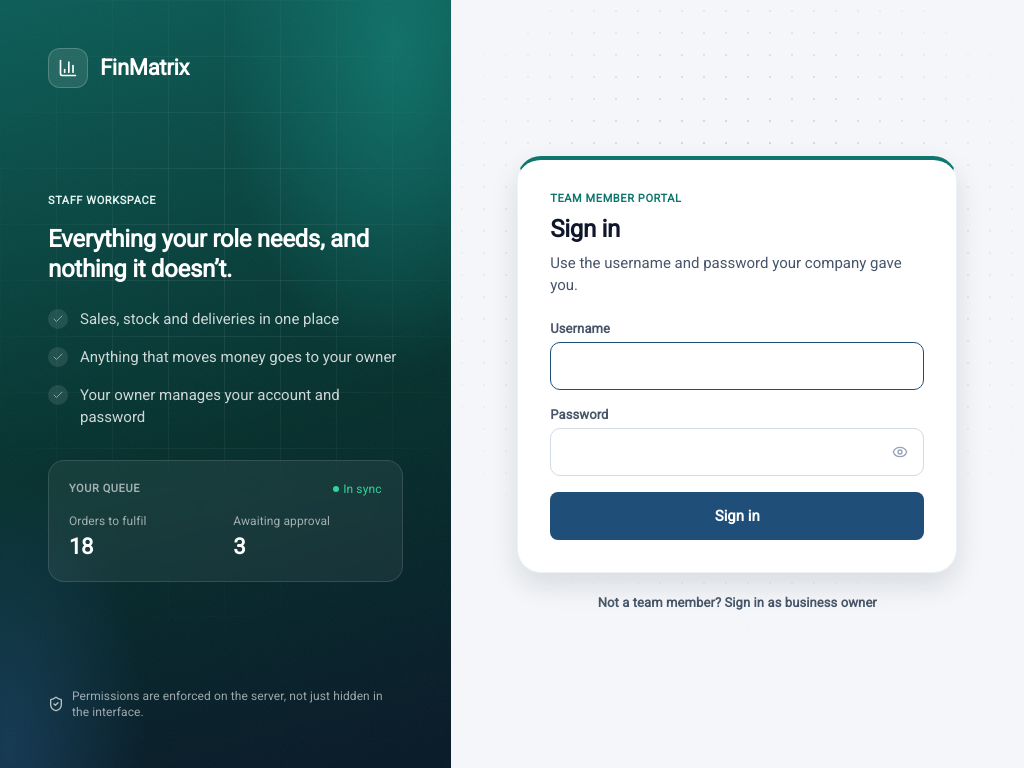
Test: portal enforcement on sign-in › keeps the owner off the team member door, with a way to the right one
This screenshot has width=1024, height=768.
Step 1. Type "warehouse@gmail.com" into the field labelled "Username" → (737, 366), box [550, 342, 924, 390]
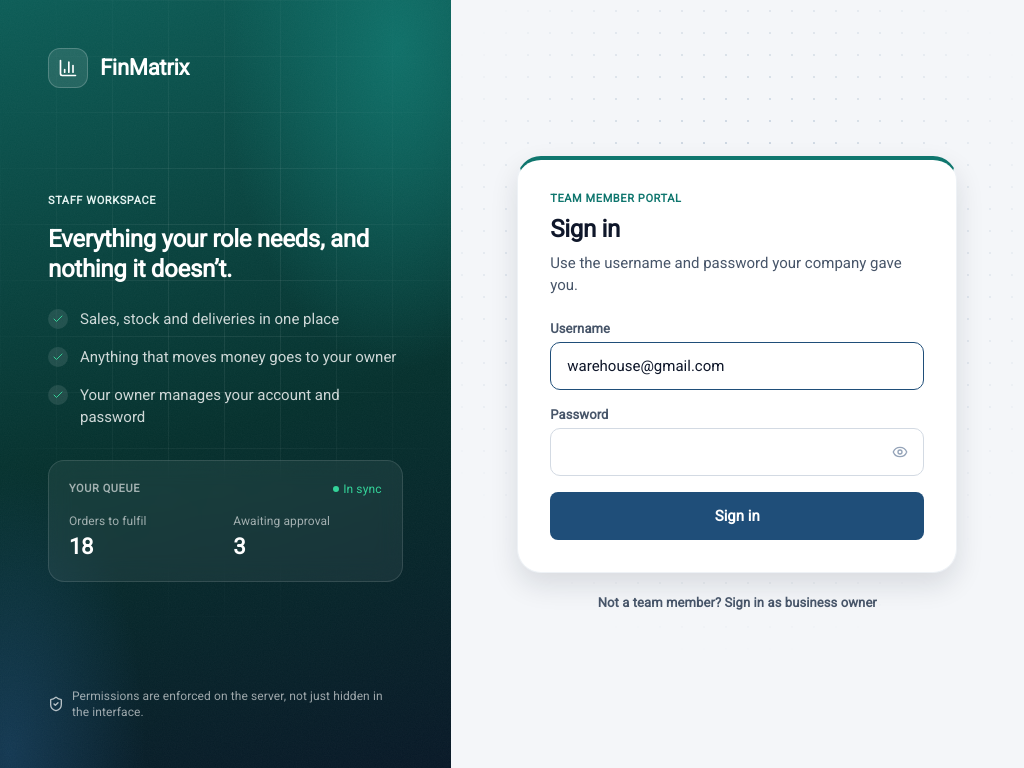
Step 2. Type "123456" into the password field labelled "Password" → (737, 452), box [550, 428, 924, 476]
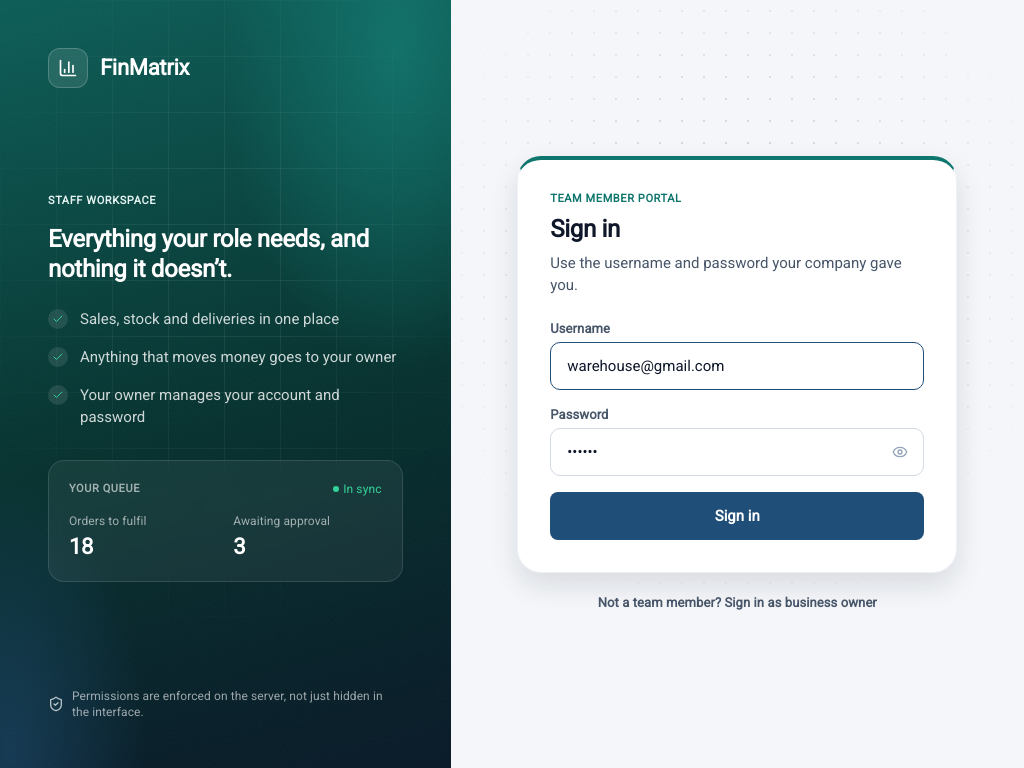
Step 3. Click the button "Sign in" → click(737, 516), box [550, 492, 924, 540]
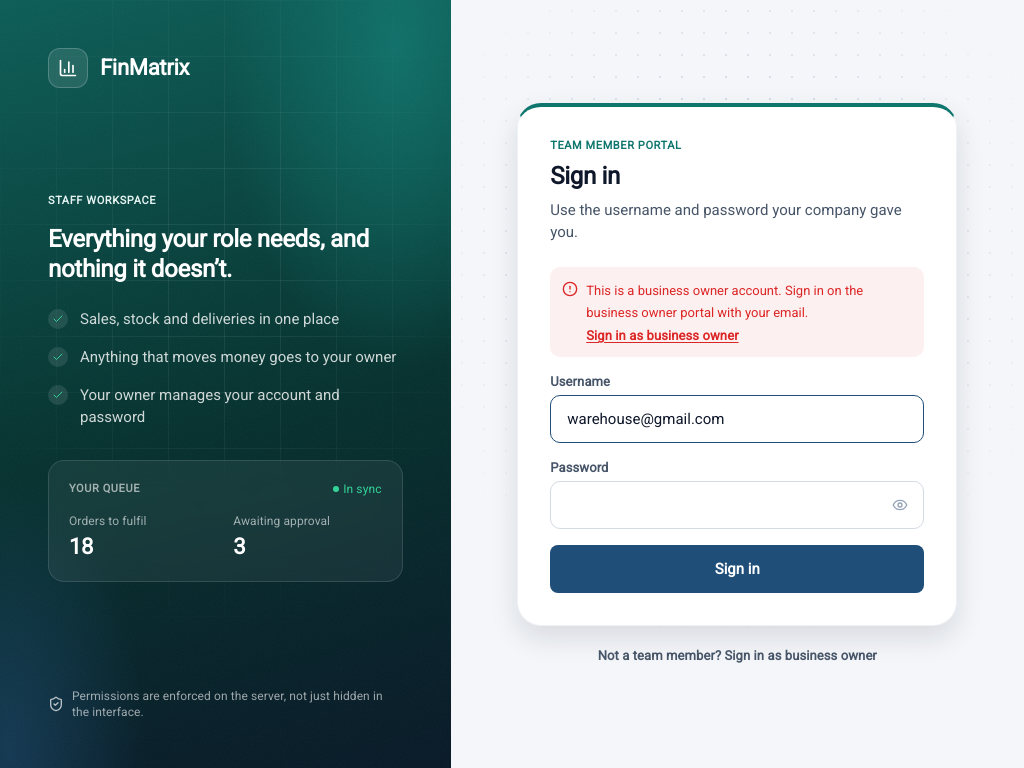
Check: the message shows "business owner account", box [586, 283, 863, 320]
Check: the password field labelled "Password" is empty, box [550, 481, 924, 529]
Step 4. Click the button "Sign in as business owner" → click(662, 336), box [586, 327, 739, 345]
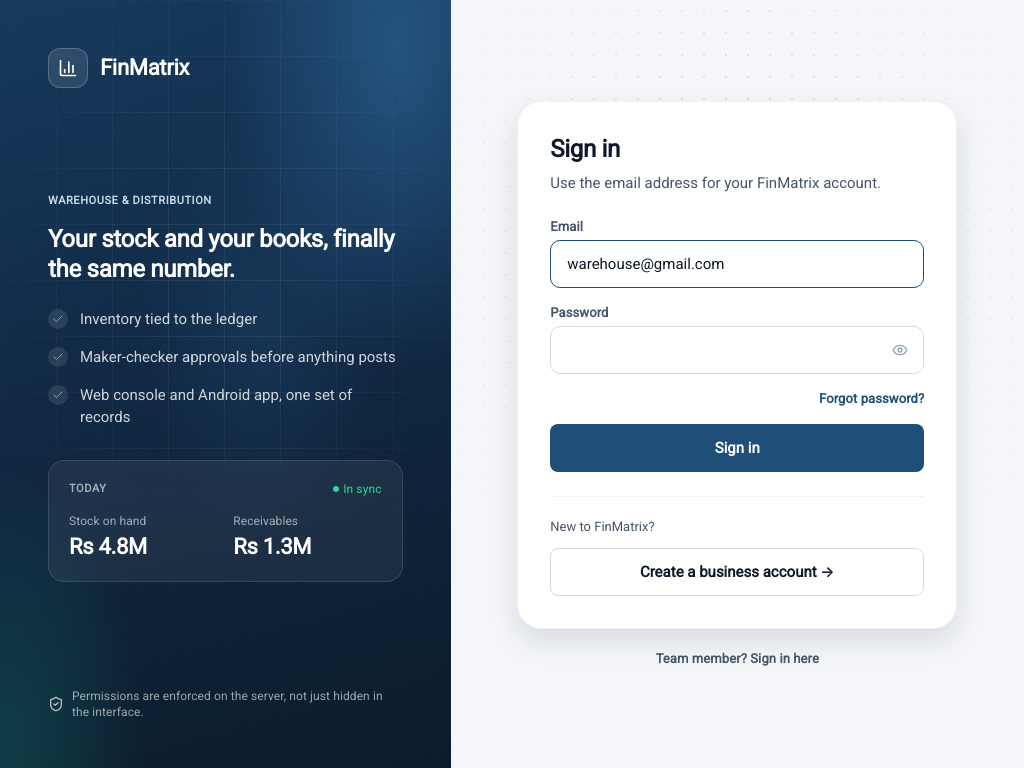
Check: the message is gone
